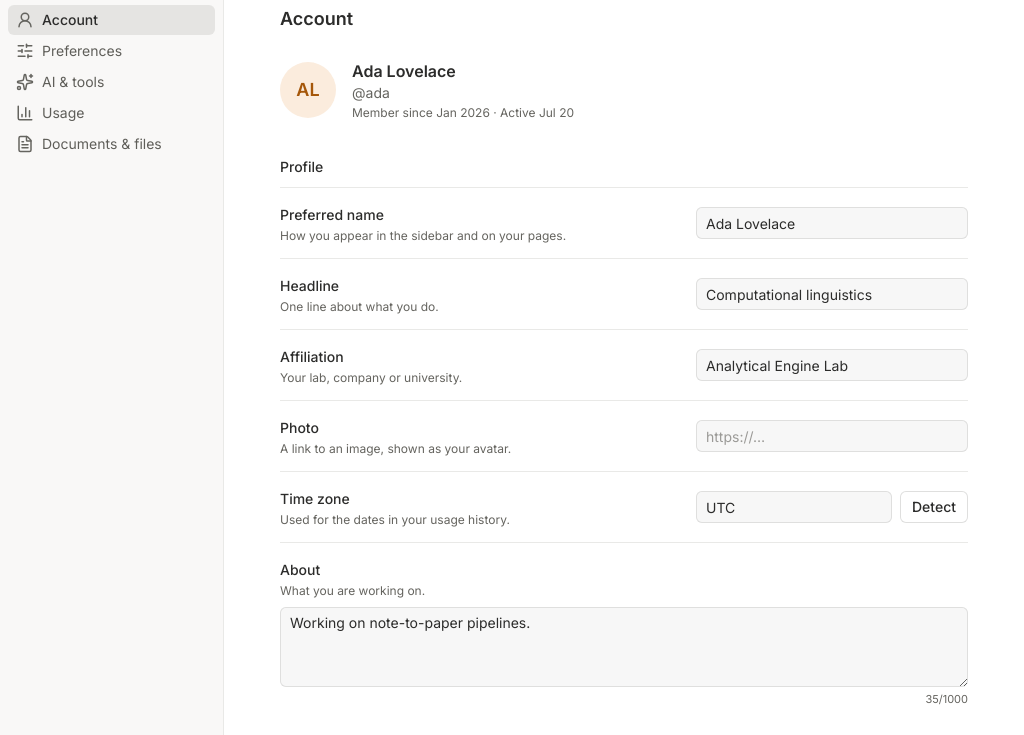
ProfileView › offers a save bar once a field changes, and saves every field
expect the heading "Ada Lovelace" is shown: met, box [352,59,456,83]
expect the element "Unsaved changes" is not shown: met
Replace the text in the field labelled "Headline" with "Parsing at scale" at (832, 294), box [696,278,968,310]
(page scrolled)
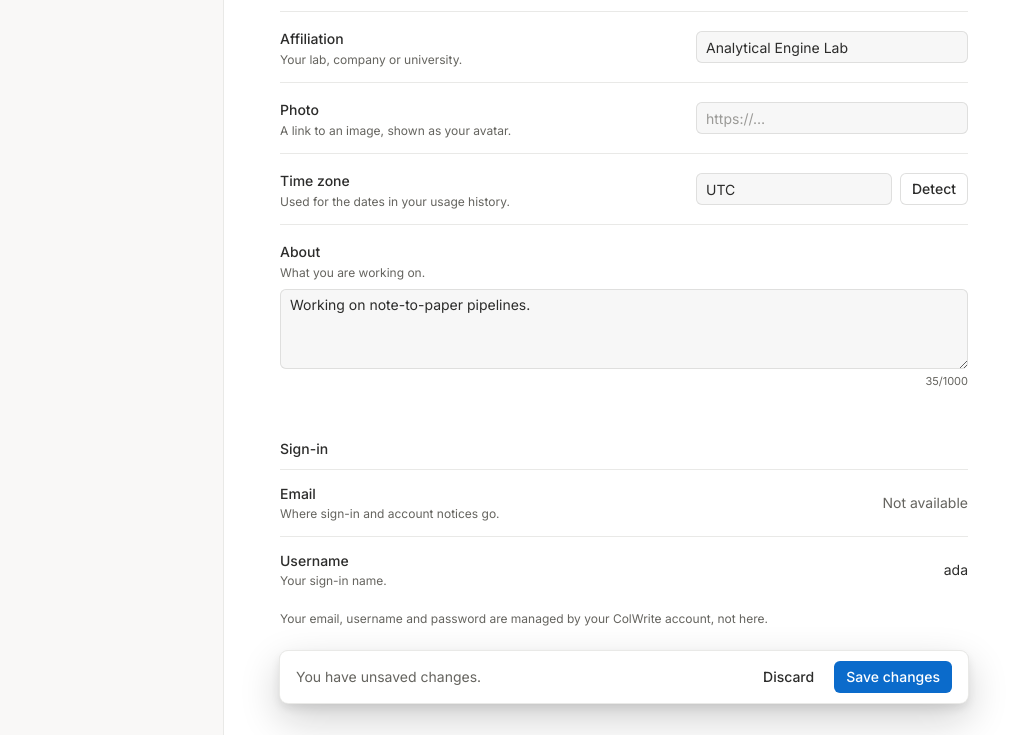
Click the button "Save changes" at (893, 677), box [834,661,952,693]
(page scrolled)
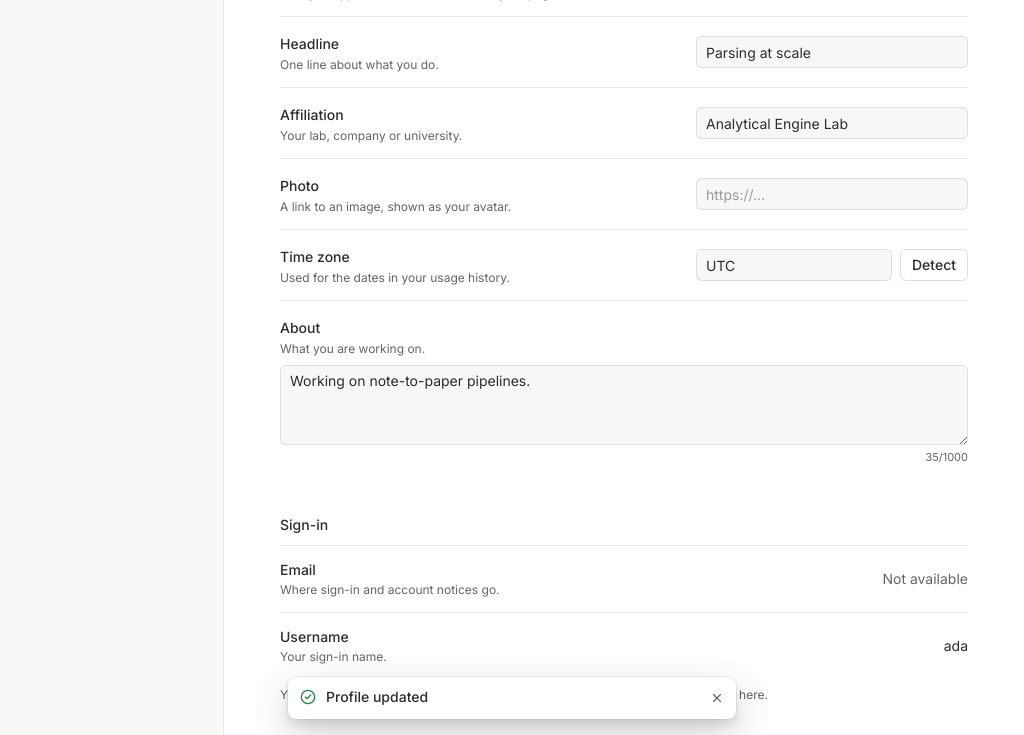
expect the text "unsaved changes" is gone: met
